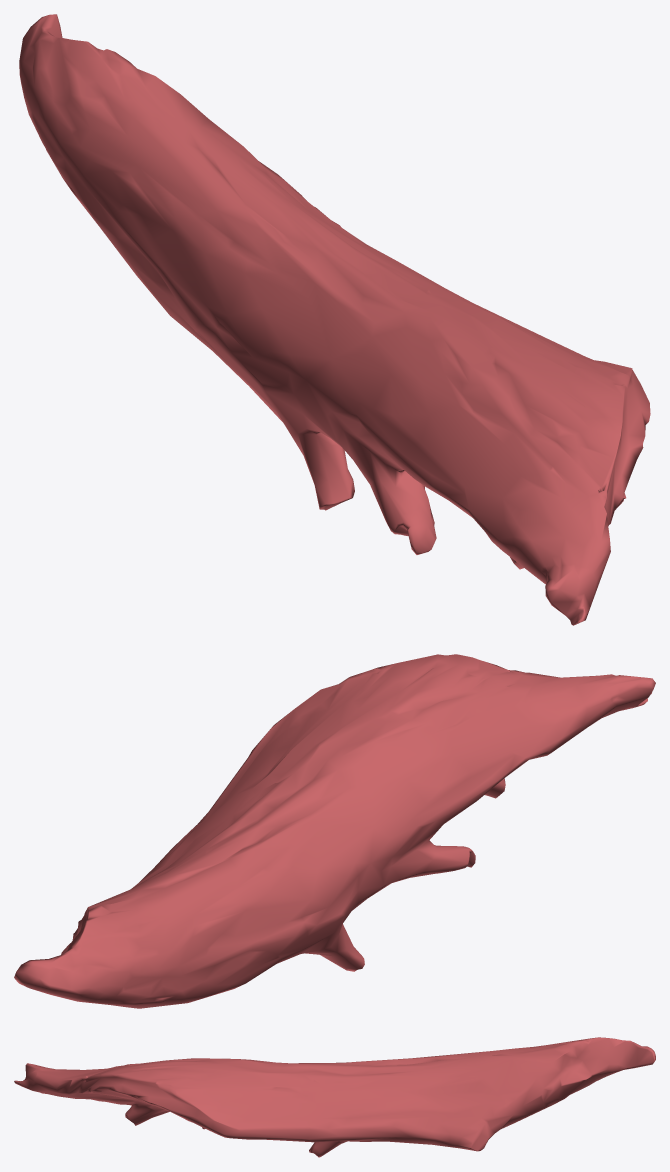
The picture shows the model from 3 angles, top to bottom: view 1: azimuth 30°, elevation 25°; view 2: azimuth 150°, elevation 25°; view 3: azimuth 270°, elevation 25°; orthographic projection. The views are drawn at different scales.
Visible parts, largest first — view 1: 左侧腰方肌; view 2: 左侧腰方肌; view 3: 左侧腰方肌.
Part boxes in pixels (box(x1,y1,x2,y2)): 左侧腰方肌: box(19, 14, 650, 625); 左侧腰方肌: box(14, 654, 655, 1008); 左侧腰方肌: box(14, 1037, 655, 1157).
Size of the model in its own units: 0.0758 by 0.0666 by 0.3041.
